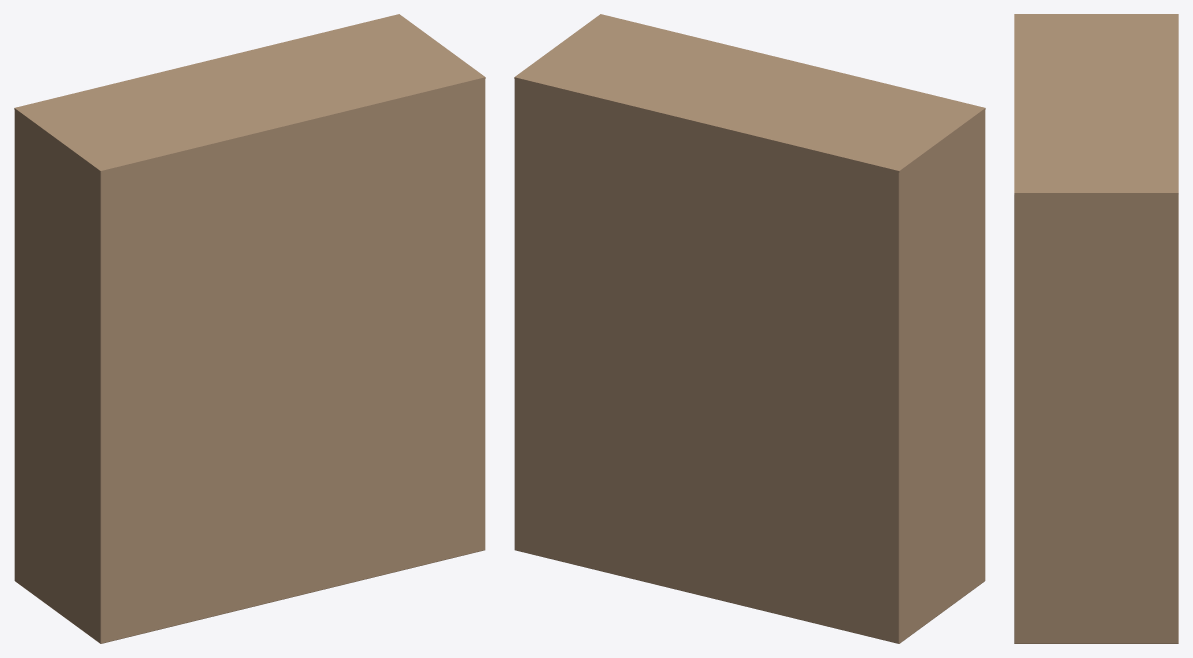
The model's file is preroll-slims-closed.glb.
3 renders of one model, left to right at view 1: azimuth 30°, elevation 25°; view 2: azimuth 150°, elevation 25°; view 3: azimuth 270°, elevation 25°, orthographic. The views are drawn at different scales.
Parts seen in each view (by area): view 1: sstd_body, sstd_lid; view 2: sstd_body, sstd_lid; view 3: sstd_body, sstd_lid.
Boxes of the visible parts, box(x1,y1,x2,y2) form: sstd_body: box(14, 78, 485, 643); sstd_lid: box(14, 14, 485, 172); sstd_body: box(514, 78, 985, 643); sstd_lid: box(514, 14, 985, 172); sstd_body: box(1014, 193, 1178, 643); sstd_lid: box(1014, 14, 1178, 194).
Size of the model in its own units: 0.103 by 0.121 by 0.04.
